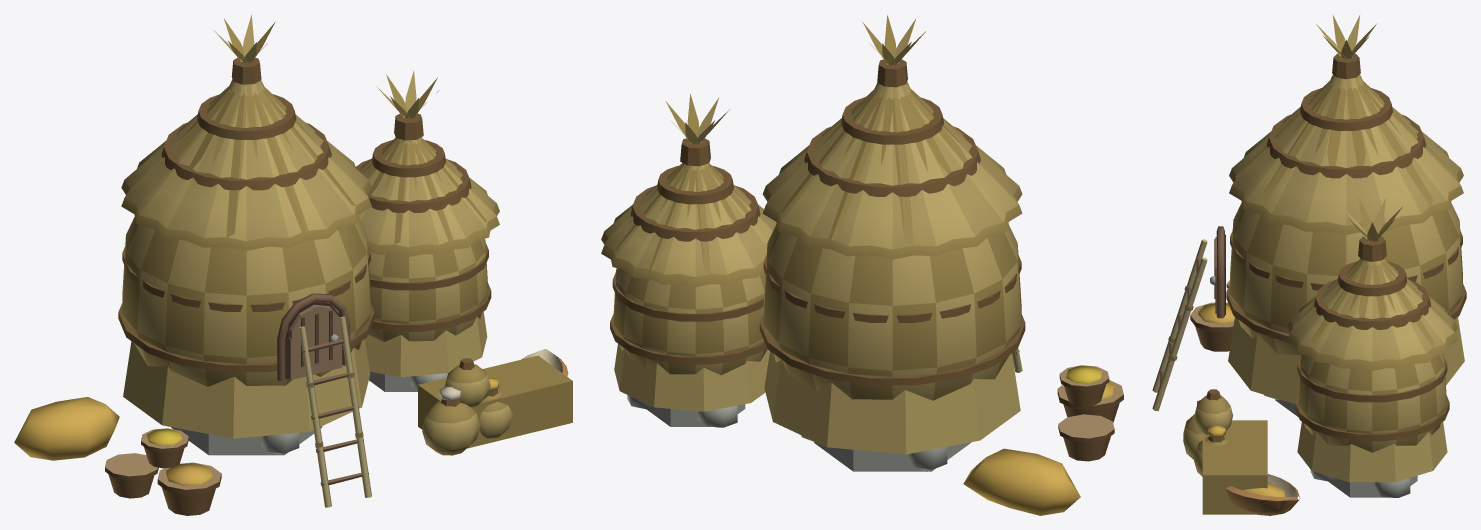
Rendered from storehouse.glb.
The picture shows the model from 3 angles, left to right: view 1: azimuth 30°, elevation 25°; view 2: azimuth 150°, elevation 25°; view 3: azimuth 270°, elevation 25°; orthographic projection. The views are drawn at different scales.
Parts seen in each view (by area): view 1: body, body_nl, body__far, body_nh; view 2: body, body_nl, body__far, body_nh; view 3: body, body_nl, body__far, body_nh.
Part boxes in pixels (x1,y1,x2,y2): body: (105,216,568,515); body_nl: (14,57,499,460); body__far: (123,86,572,455); body_nh: (214,15,439,119); body: (610,224,1123,471); body_nl: (601,59,1080,515); body__far: (614,89,1020,471); body_nh: (665,15,925,144); body: (1152,203,1466,515); body_nl: (1229,53,1463,370); body__far: (1202,81,1464,514); body_nh: (1316,14,1402,241).
Size of the model in its own units: 3.63 by 2.92 by 2.18.
